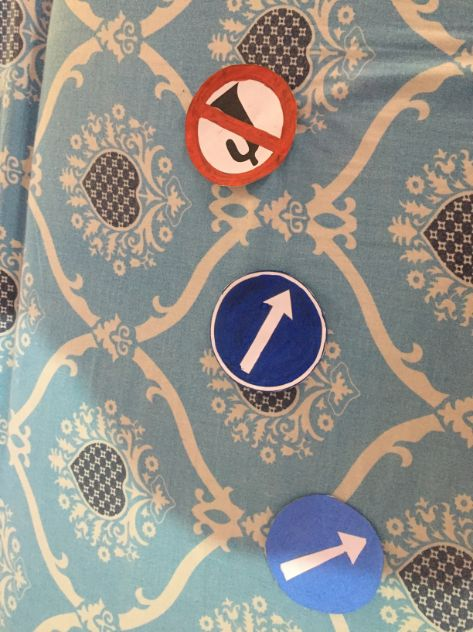go-stright: (205, 268, 328, 394)
keep-left: (265, 490, 387, 616)
no-horn: (185, 62, 300, 189)
